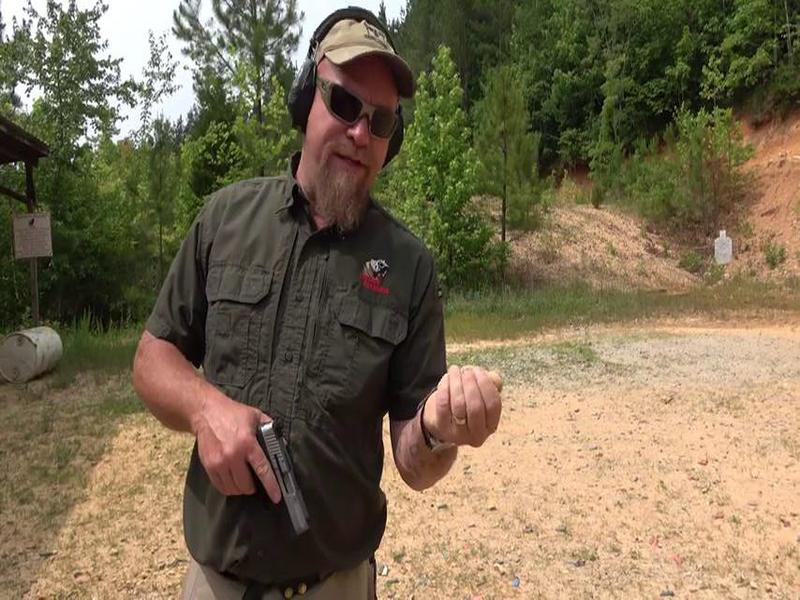Pistola: (226, 403, 361, 563)
